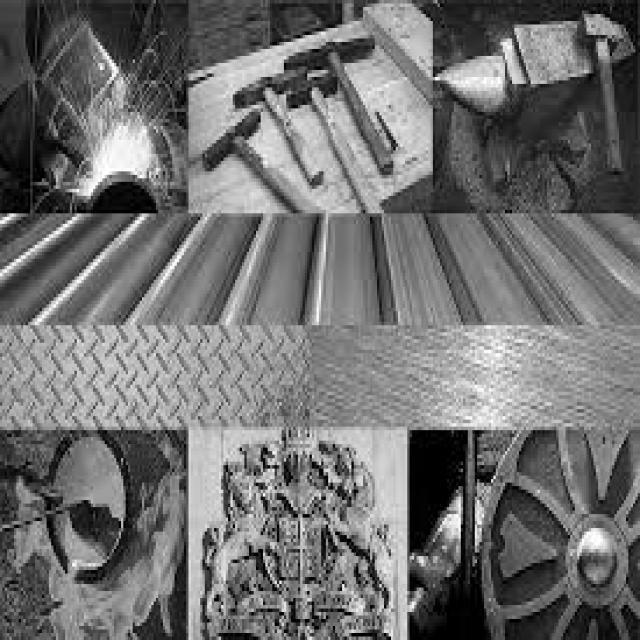hammer: (287, 26, 397, 180), (285, 70, 390, 217), (199, 104, 327, 220), (225, 63, 328, 189), (577, 8, 631, 184)
